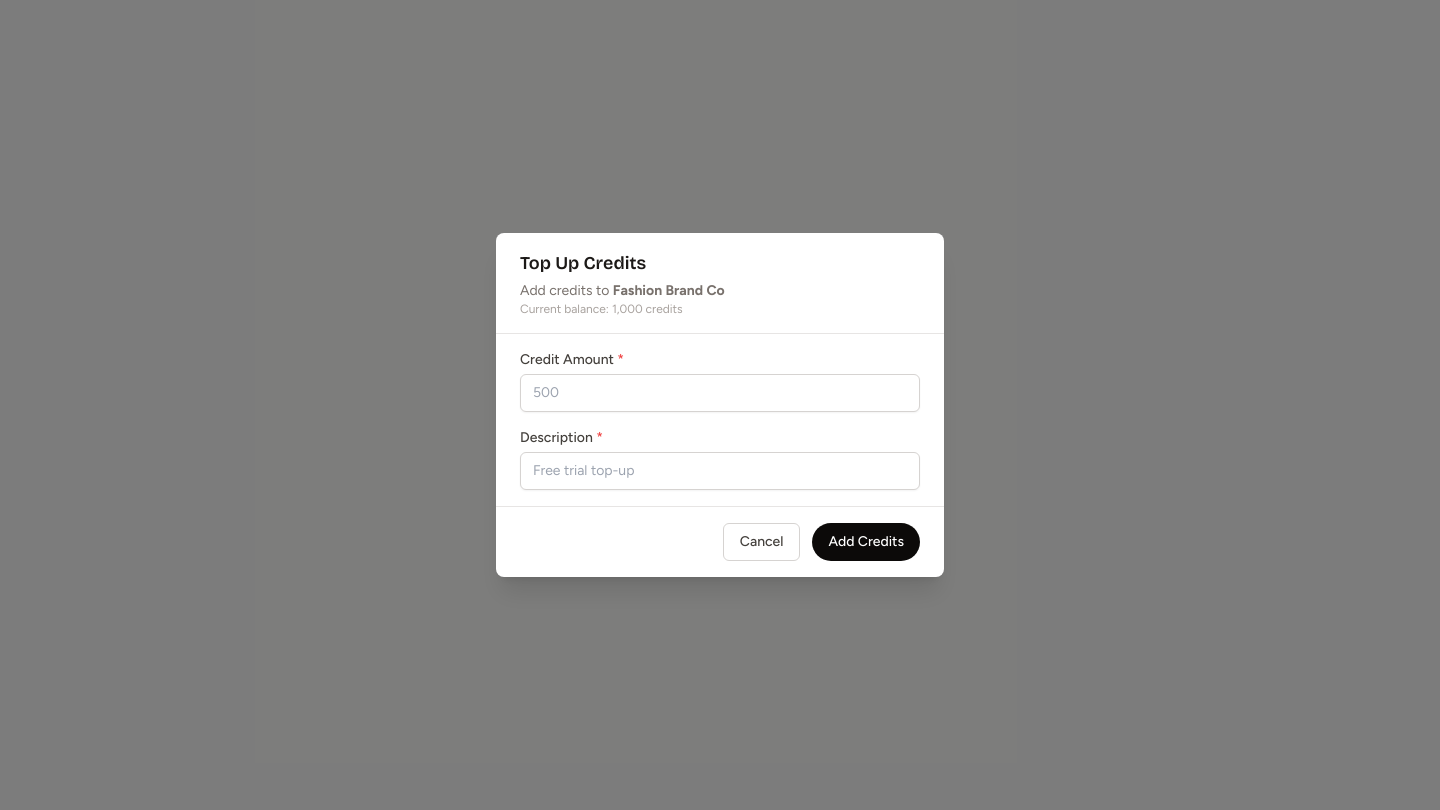
Test: AdminTopupDialog › validation › shows errors on empty submit
Click the button "Add Credits" at x=866, y=542, box top-left (812, 523), bottom-right (920, 561)
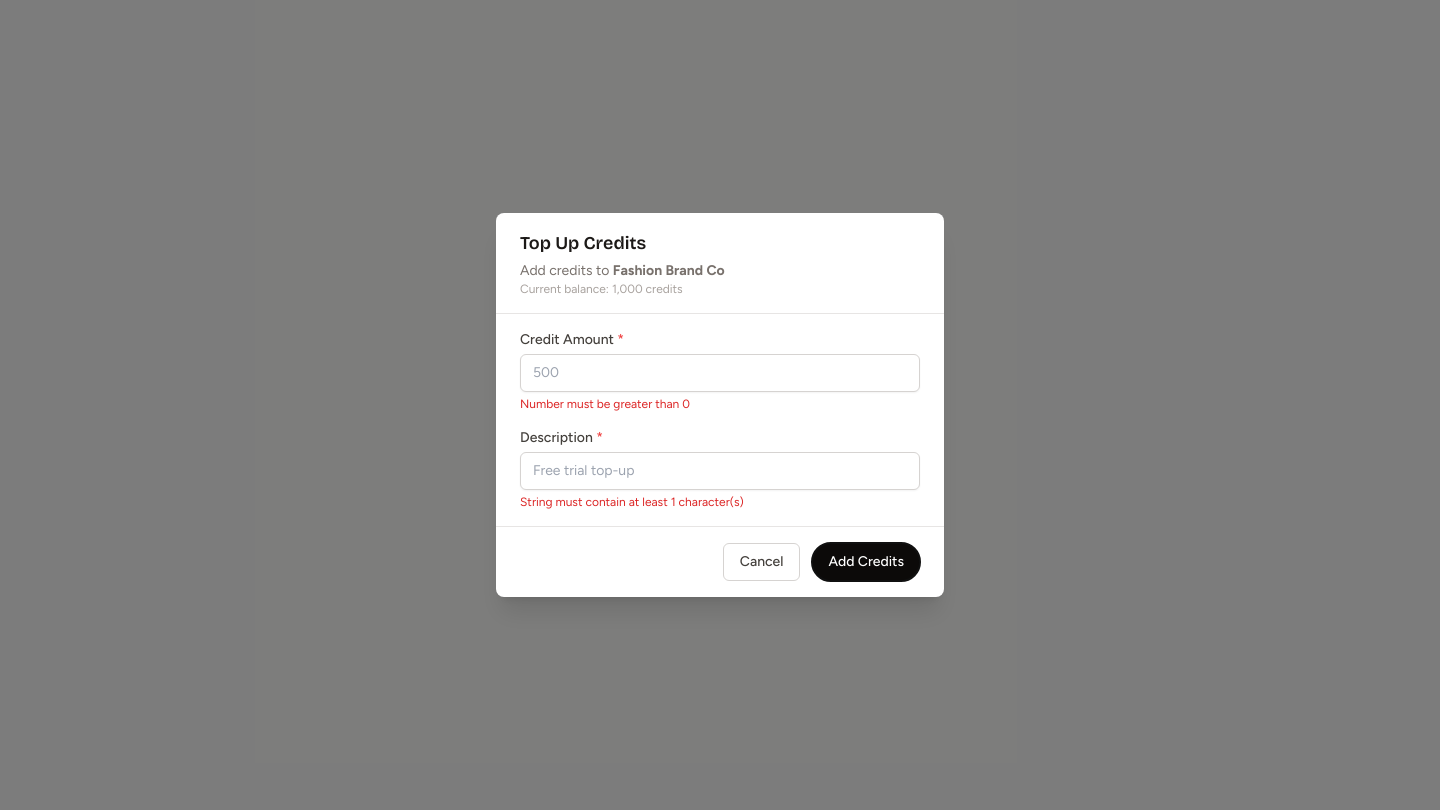
Expected: the message "Number must be greater than 0" is shown, top-left (520, 397), bottom-right (690, 411)
